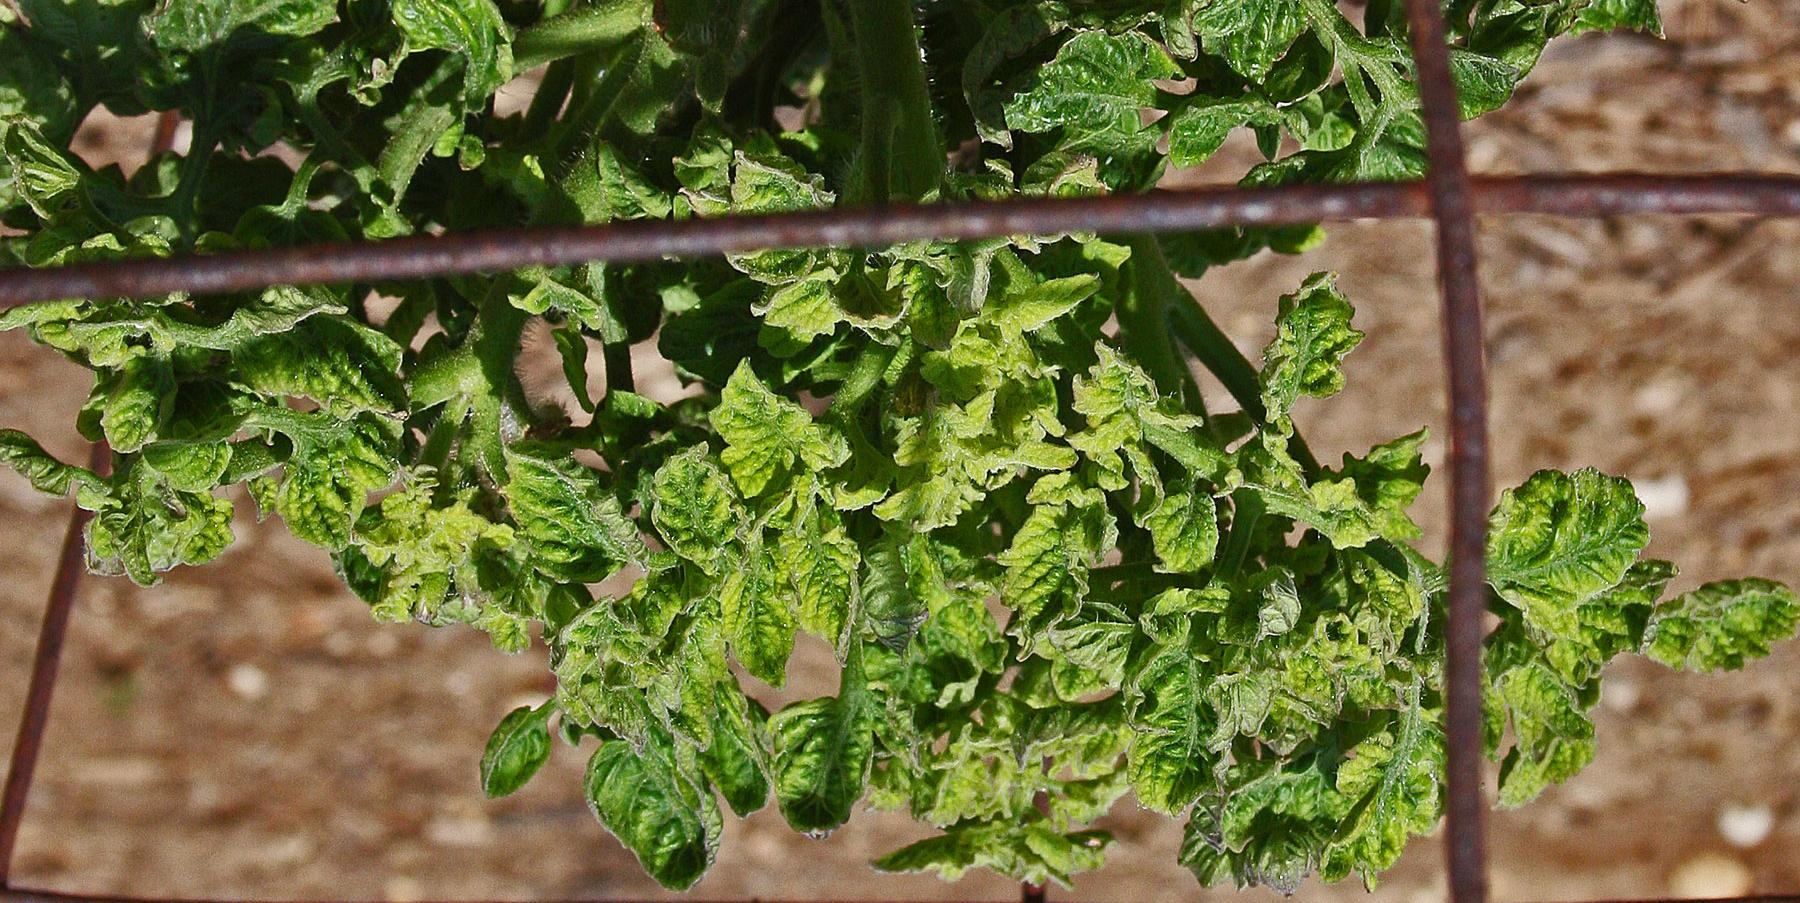Tomato leaf yellow virus: (992, 0, 1214, 154), (1473, 431, 1658, 615), (562, 718, 755, 894), (179, 289, 411, 424), (751, 680, 911, 865), (483, 428, 658, 583), (1001, 440, 1115, 660), (1311, 699, 1437, 880), (1490, 615, 1618, 787), (1124, 627, 1237, 817), (641, 433, 769, 599), (1251, 265, 1367, 428), (1641, 566, 1798, 686), (706, 347, 841, 487), (879, 377, 998, 532), (1188, 0, 1347, 113), (1294, 433, 1431, 554), (775, 479, 872, 646), (720, 508, 798, 714), (379, 0, 511, 112), (759, 259, 911, 351), (263, 464, 383, 566), (1145, 473, 1247, 574), (987, 263, 1117, 333), (132, 427, 246, 498)
